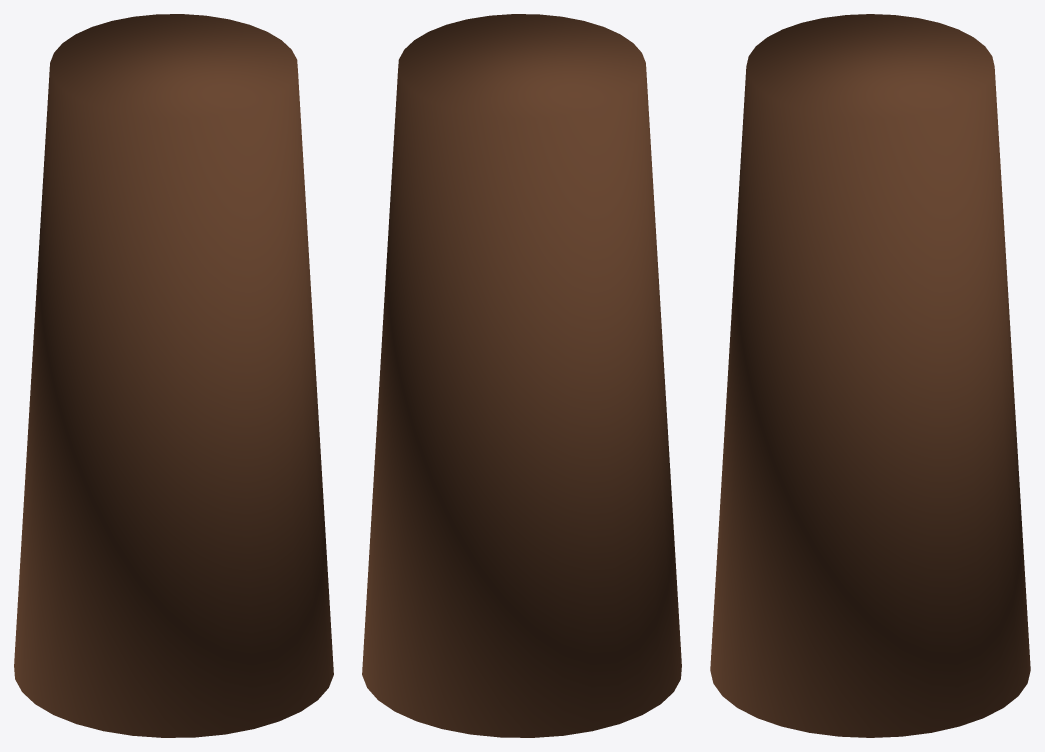
File: pillar_wood_small.glb
The picture shows the model from 3 angles, left to right: view 1: azimuth 30°, elevation 25°; view 2: azimuth 150°, elevation 25°; view 3: azimuth 270°, elevation 25°; orthographic projection.
Parts seen in each view (by area): view 1: pillar_wood_small; view 2: pillar_wood_small; view 3: pillar_wood_small.
Boxes of the visible parts, x1,y1,x2,y2 form: pillar_wood_small: [14, 14, 333, 737]; pillar_wood_small: [362, 14, 681, 737]; pillar_wood_small: [710, 14, 1030, 737].
Bounding box in the file's own units: 0.8467 × 1.76 × 0.8467.
